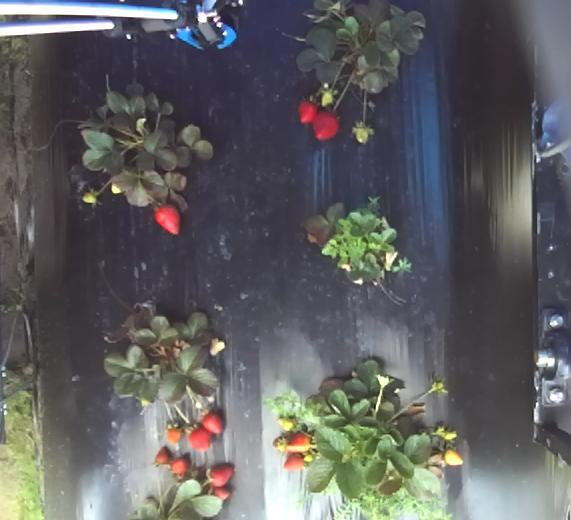mature: (152, 203, 181, 235), (311, 109, 339, 141), (205, 465, 238, 488), (187, 426, 212, 452), (281, 453, 309, 474), (285, 431, 311, 453), (200, 410, 223, 434), (297, 99, 317, 124), (170, 457, 191, 473), (165, 424, 181, 445), (212, 489, 233, 501), (153, 450, 168, 464)
